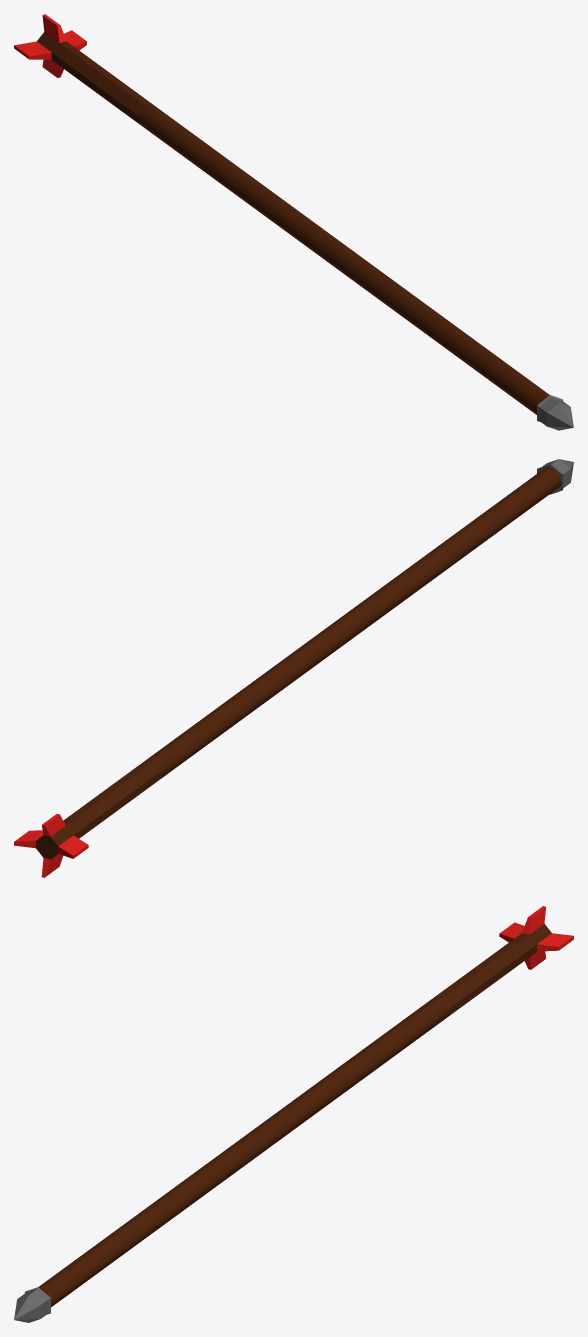
File: new_arrow.fbx
The picture shows the model from 3 angles, top to bottom: view 1: azimuth 30°, elevation 25°; view 2: azimuth 150°, elevation 25°; view 3: azimuth 330°, elevation 25°; orthographic projection.
Parts seen in each view (by area): view 1: Arrow; view 2: Arrow; view 3: Arrow.
Part boxes in pixels (<box>): Arrow: <box>14,14,573,430</box>; Arrow: <box>14,459,573,877</box>; Arrow: <box>14,906,573,1322</box>.
Size of the model in its own units: 3.65 by 3.12 by 57.42.
